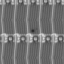dust: (30, 27, 35, 33)
